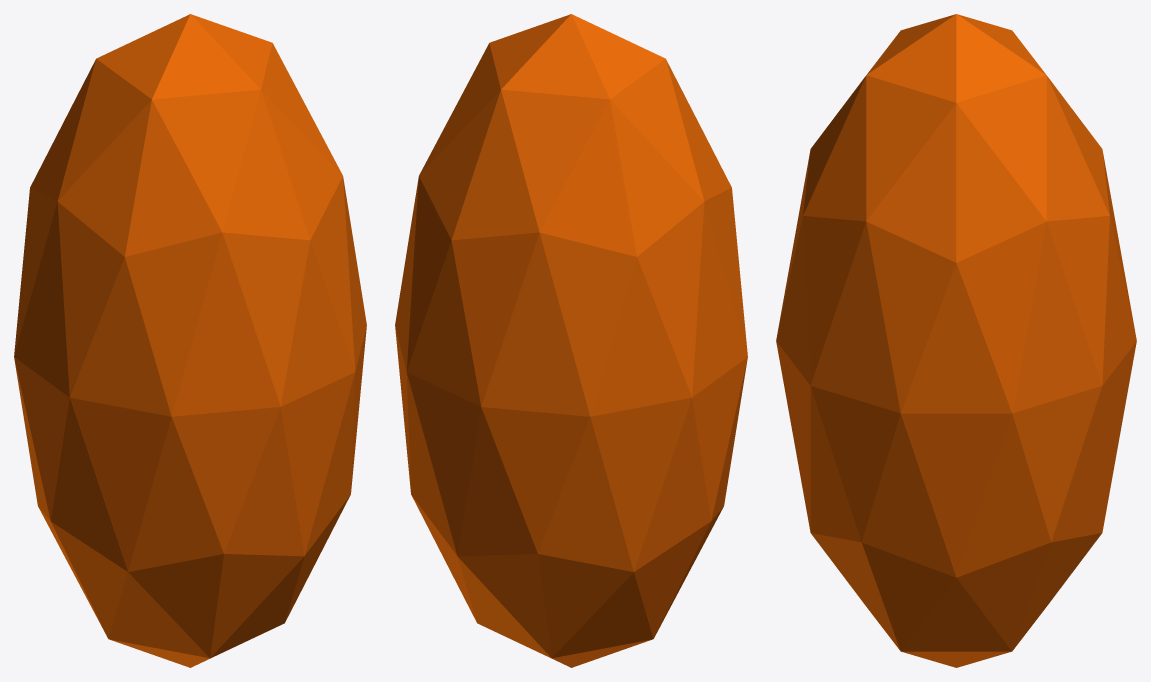
File: Player.glb
3 renders of one model, left to right at view 1: azimuth 30°, elevation 25°; view 2: azimuth 150°, elevation 25°; view 3: azimuth 270°, elevation 25°, orthographic.
Visible parts, largest first — view 1: Icosphere; view 2: Icosphere; view 3: Icosphere.
Part boxes in pixels (x1,y1,x2,y2): Icosphere: (14, 14, 366, 667); Icosphere: (395, 14, 747, 667); Icosphere: (776, 14, 1136, 667).
Size of the model in its own units: 0.9511 by 2 by 1.
